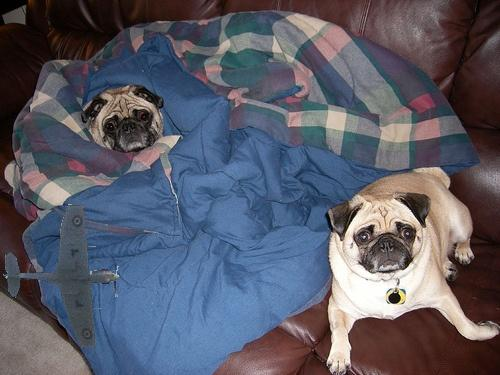tampered: (4, 205, 119, 348)
